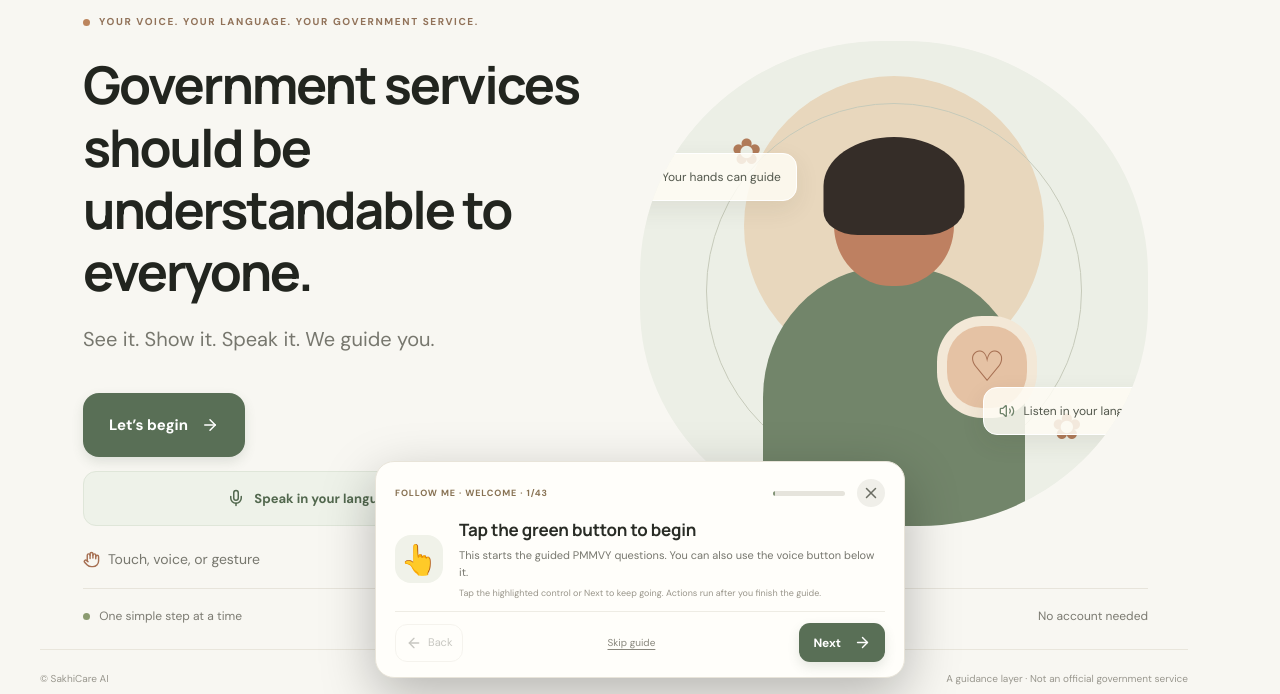
Test: SakhiCare guided journey › opens the themed Sakhi chat with text, voice, attachments and suggested prompts
(page scrolled)
Click the button named "skip guide": x=871, y=493 [857,479,885,507]
(page scrolled)
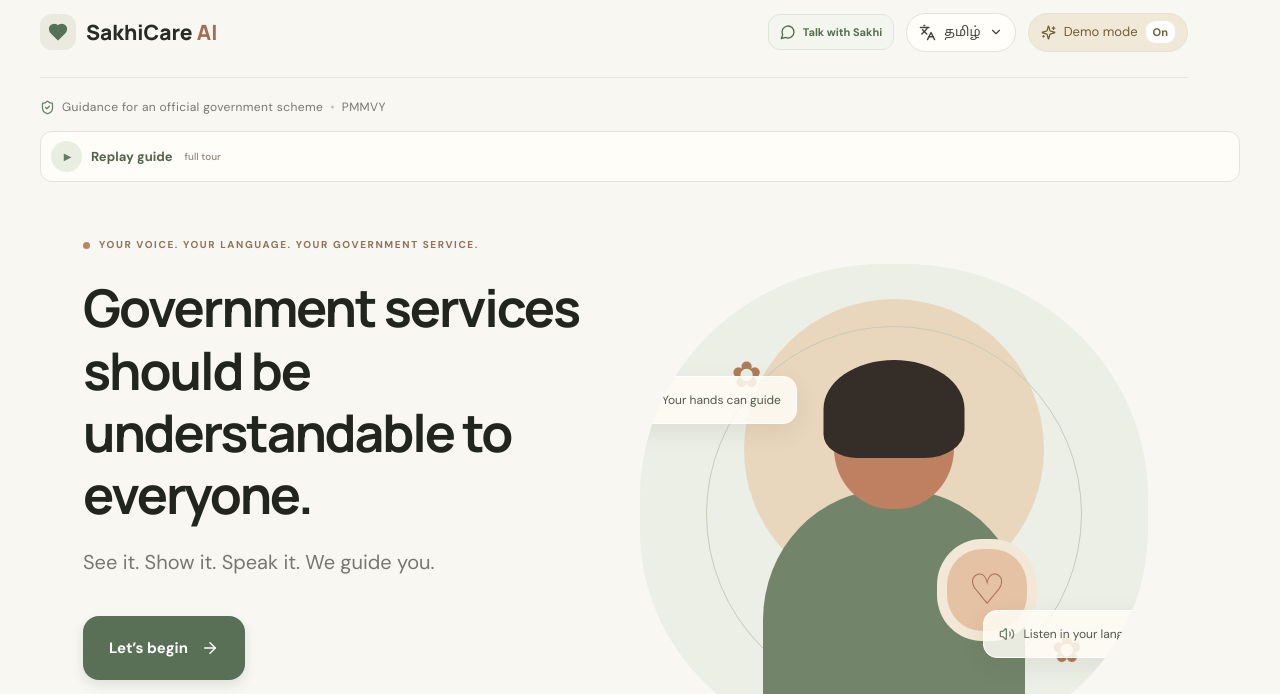
Click the button "Talk with Sakhi": x=831, y=32 [768,14,894,50]
(page scrolled)
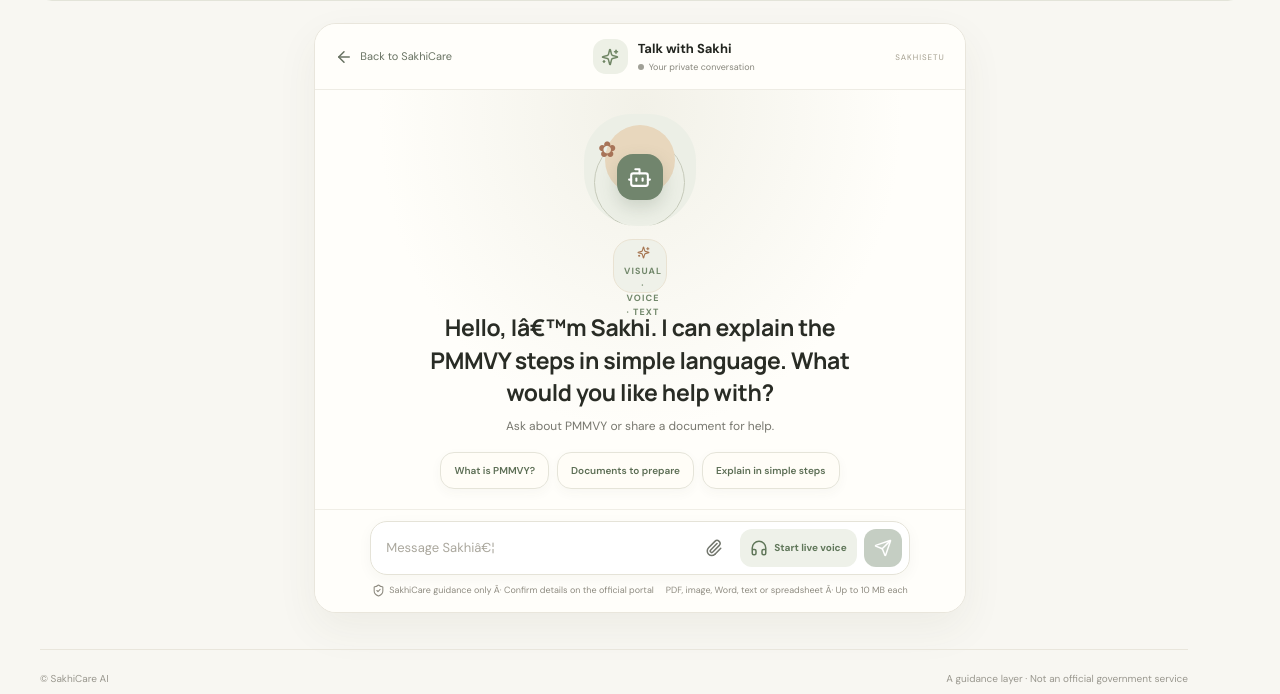
Result: the element "Talk with Sakhi" is shown at [314,23,966,613]
Result: the text "VISUAL · VOICE · TEXT" is shown at [613,239,667,293]
Result: the field labelled "Message Sakhiâ€¦" is shown at [386,528,687,567]
Click the button "What is PMMVY?": x=495, y=471 [440,452,549,489]
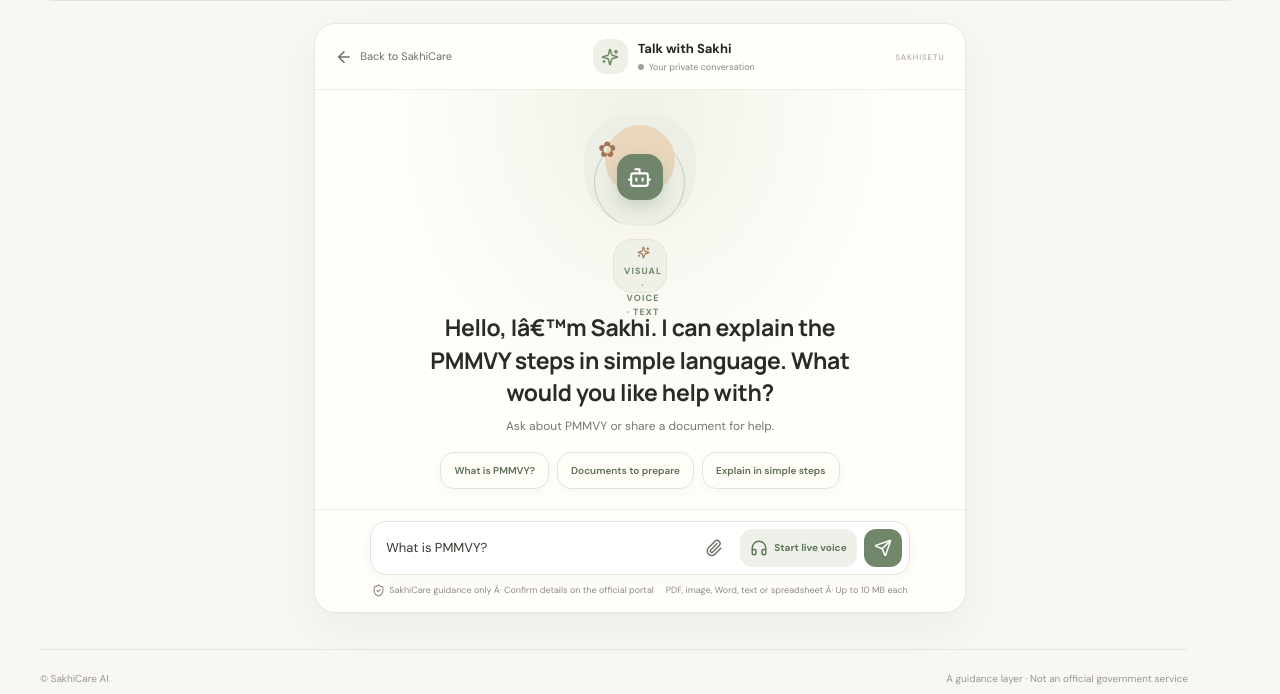
Result: the field named "Message Sakhi" holds "What is PMMVY?" at [386,528,687,567]
